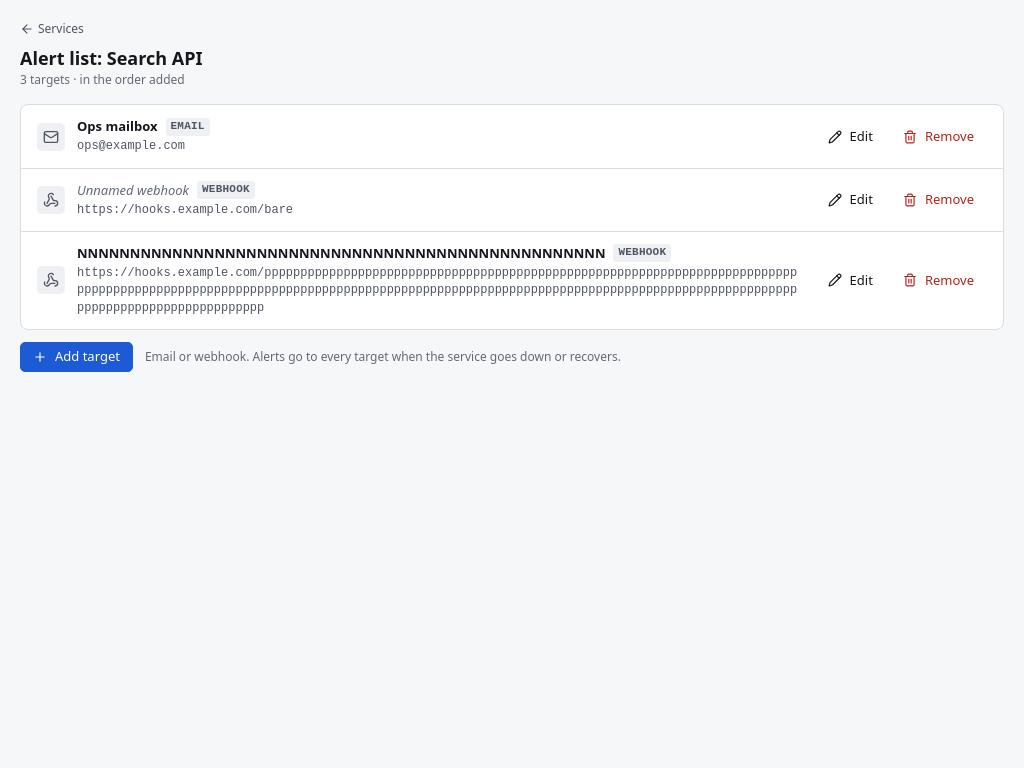
Test case: removing a target › after a 204 › removes the first row and focuses the next row’s Edit button
Expected: the list named "Notification targets" is shown, [20,104,1004,330]
Click the button with aria-label "Remove Ops mailbox": (938, 136) [890,122,987,152]
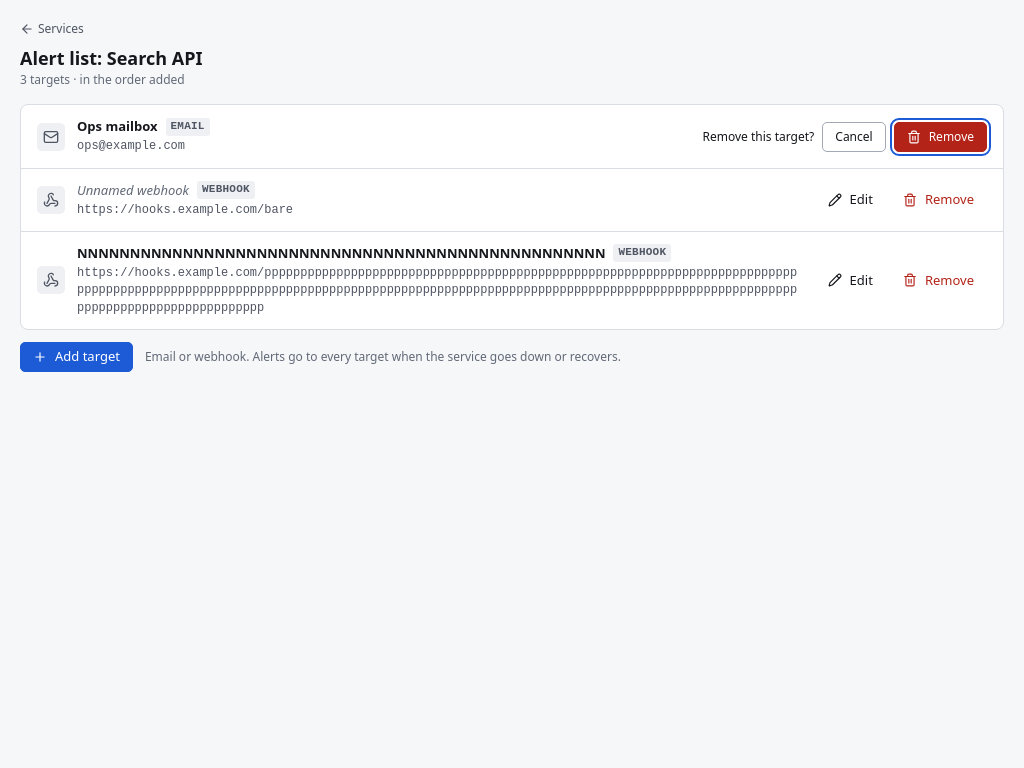
Click the button "Remove" in the row of "Remove this target?": (940, 136) [894,122,987,152]
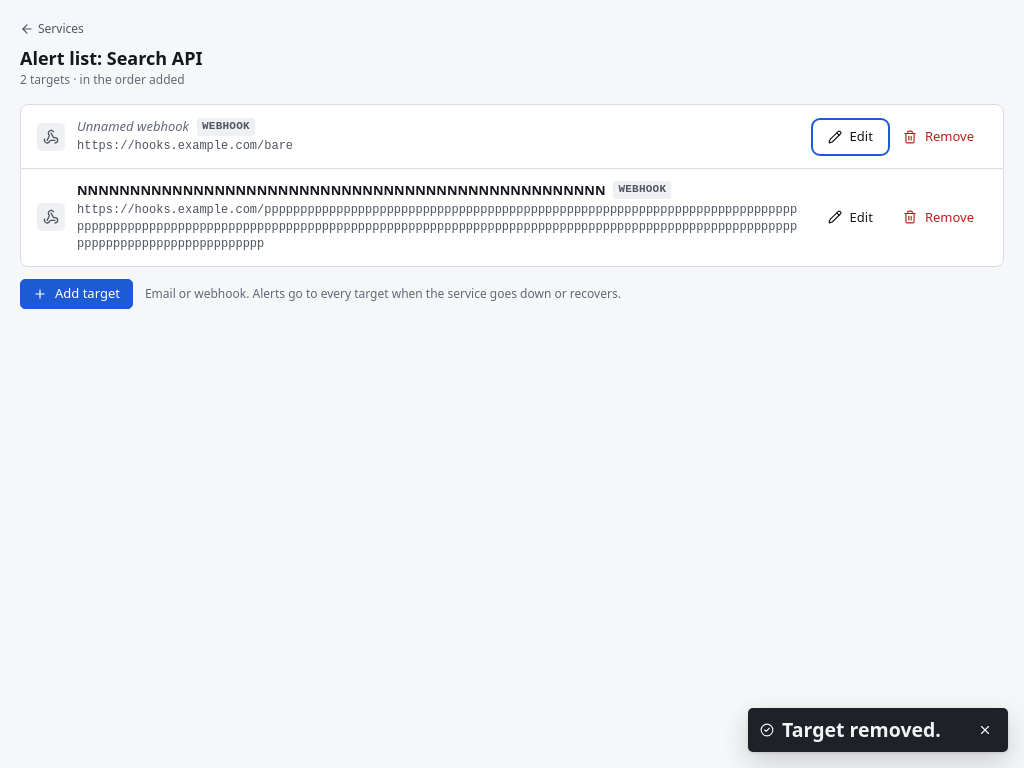
Now the number of list items is 2, box [37,117,987,153]; [21,168,1003,266]
Now the text "2 targets · in the order added" is shown, box [20,71,185,88]
Now the heading "Target removed." is shown, box [782,716,962,744]
